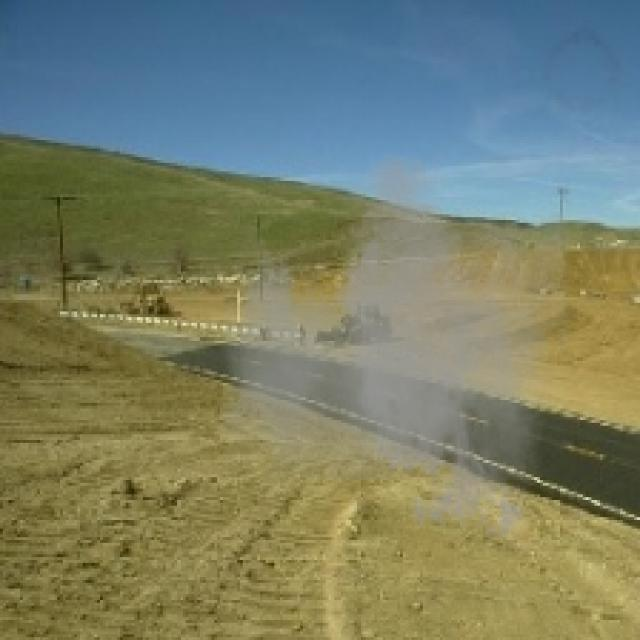smoke: (220, 137, 571, 554)
